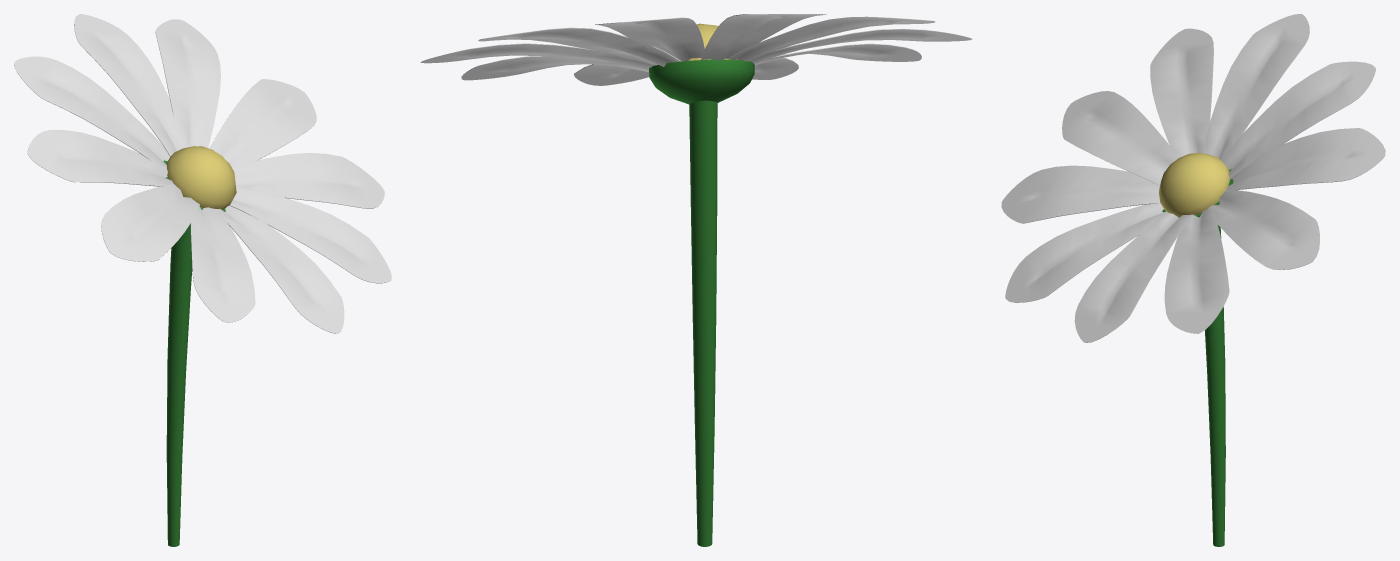
The model's file is flower2.FBX.
3 views of the same model, side by side, from view 1: azimuth 30°, elevation 25°; view 2: azimuth 150°, elevation 25°; view 3: azimuth 270°, elevation 25° (orthographic). The views are drawn at different scales.
Parts seen in each view (by area): view 1: Line30, Line23, Line24, Line26, Line25, Line29, Stengel 01, Line22, Line28, Line27, Line21, Sphere03; view 2: Stengel 01, Cylinder05, Line25, Line22, Line26, Line24, Line27, Line21, Line23, Line28, Line30, Line29; view 3: Line22, Line26, Line27, Line28, Line21, Line29, Line25, Line30, Line24, Line23, Stengel 01, Sphere03.
Part boxes in pixels (x1,y1,x2,y2): Line30: (229,186,391,283); Line23: (233,153,384,208); Line24: (209,79,316,168); Line26: (74,14,189,156); Line25: (155,19,220,147); Line29: (217,205,344,333); Stengel 01: (166,224,192,546); Line22: (14,56,169,167); Line28: (190,206,255,322); Line27: (27,130,173,186); Line21: (101,184,199,261); Sphere03: (166,146,236,209); Stengel 01: (689,100,717,546); Cylinder05: (649,59,754,104); Line25: (478,27,680,66); Line22: (701,14,826,61); Line26: (595,17,704,61); Line24: (420,43,654,70); Line27: (728,16,935,61); Line21: (750,29,972,63); Line23: (461,56,648,80); Line28: (754,43,921,65); Line30: (574,64,649,85); Line29: (752,58,798,79); Line22: (1205,14,1309,160); Line26: (1221,61,1375,179); Line27: (1150,28,1213,157); Line28: (1001,165,1160,223); Line21: (1062,91,1179,185); Line29: (1005,203,1167,302); Line25: (1226,128,1385,190); Line30: (1074,212,1193,342); Line24: (1208,190,1319,269); Line23: (1164,209,1229,333); Stengel 01: (1205,225,1225,546); Sphere03: (1158,153,1229,217).
Size of the model in its own units: 19.4 by 24.47 by 17.96.
